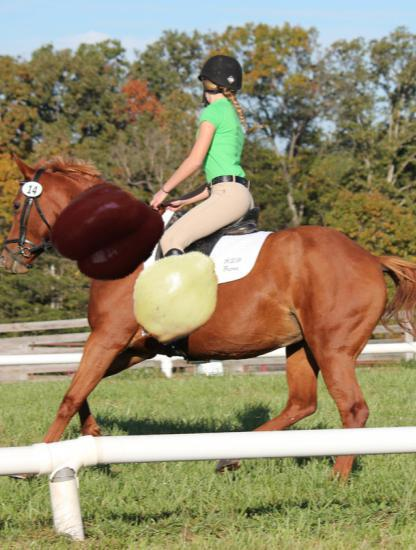Pepper: (56, 180, 160, 284)
Quince: (124, 243, 230, 349)
